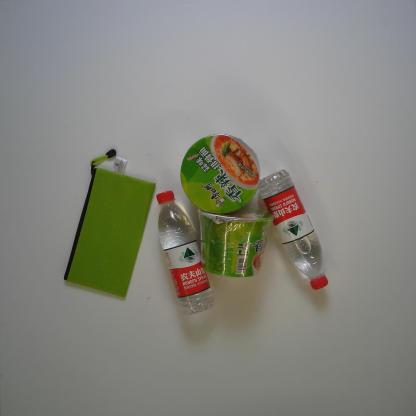Drink: (259, 167, 329, 292), (154, 189, 215, 318)
Instant Noodles: (180, 134, 261, 218), (196, 199, 275, 279)
Stationery: (64, 148, 156, 301)
